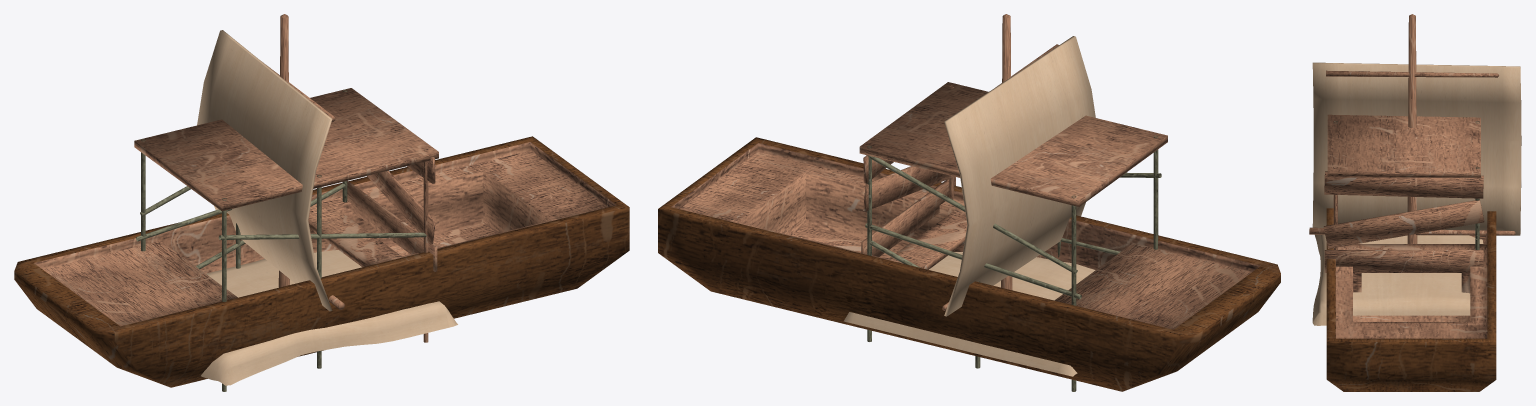
Rendered from BarcoAlone.fbx.
The picture shows the model from 3 angles, left to right: view 1: azimuth 30°, elevation 25°; view 2: azimuth 150°, elevation 25°; view 3: azimuth 270°, elevation 25°; orthographic projection. The views are drawn at different scales.
Visible parts, largest first — view 1: BarcoCarcaca, BarcoCabine, BarcoVela, BarcoLona; view 2: BarcoCarcaca, BarcoCabine, BarcoVela, BarcoLona; view 3: BarcoVela, BarcoCabine, BarcoCarcaca, BarcoLona.
Part boxes in pixels (x1,y1,x2,y2): BarcoCarcaca: (14, 136, 629, 387); BarcoCabine: (134, 88, 438, 391); BarcoVela: (197, 14, 344, 311); BarcoLona: (201, 250, 457, 385); BarcoCarcaca: (658, 137, 1280, 391); BarcoCabine: (859, 82, 1167, 391); BarcoVela: (942, 14, 1095, 316); BarcoLona: (843, 252, 1095, 376); BarcoVela: (1309, 14, 1521, 243); BarcoCabine: (1323, 114, 1484, 272); BarcoCarcaca: (1326, 208, 1496, 391); BarcoLona: (1312, 234, 1483, 325).
Size of the model in its own units: 574 by 338 by 229.
4 materials, 4 textured.
